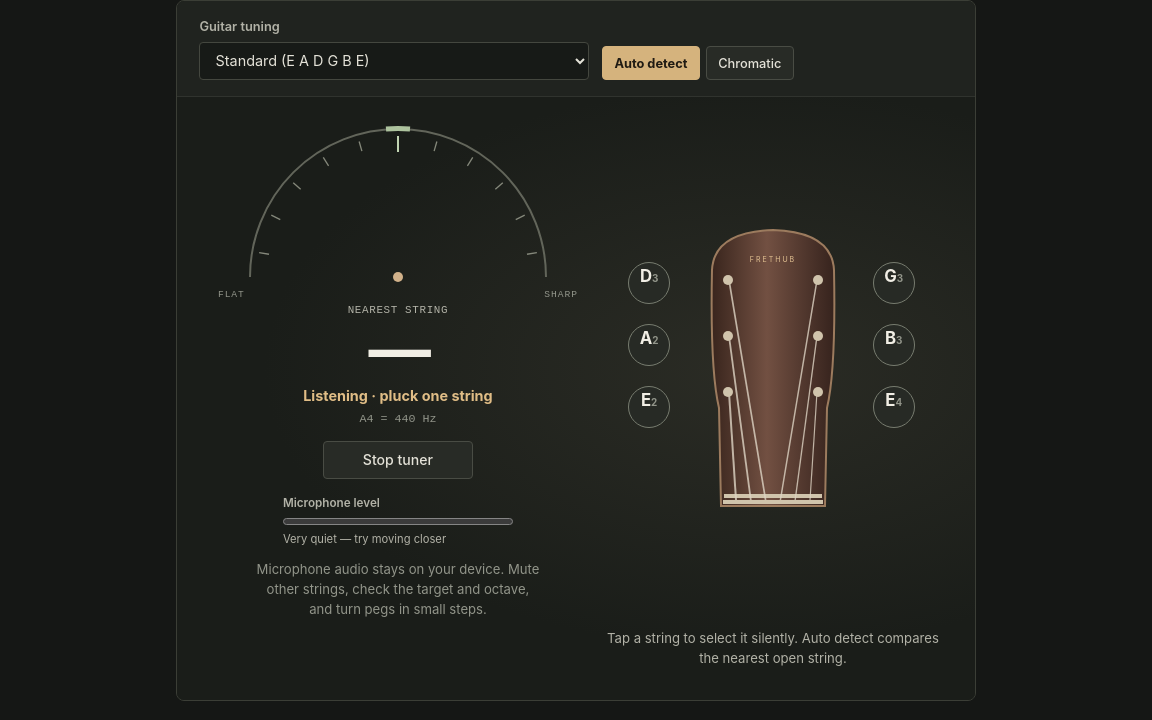
Test case: tuner microphone flow › ignores reference playback until its delayed sample and analyser tail have finished
Click the button named "Select E2 target, string 6": x=649, y=407 left=628, top=386, right=670, bottom=428
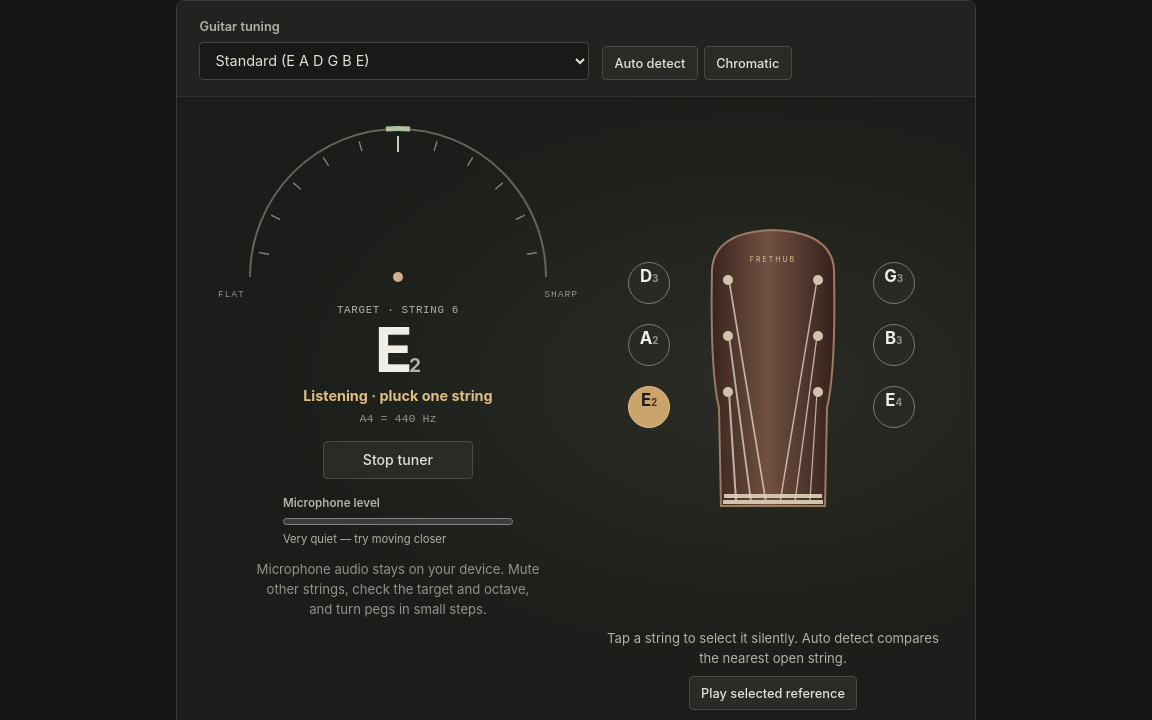
Click the button "Play selected reference": x=773, y=693 left=689, top=676, right=857, bottom=710
Wait 220 ms
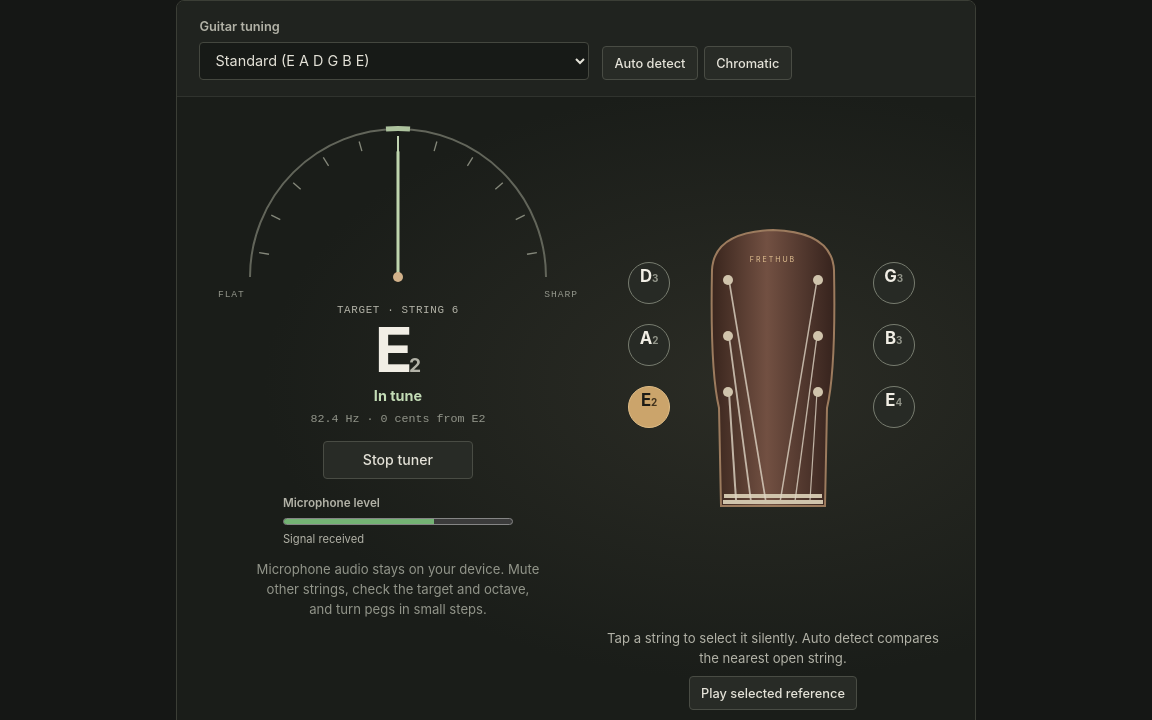
Check: the text "In tune" is shown, box left=374, top=385, right=422, bottom=407
